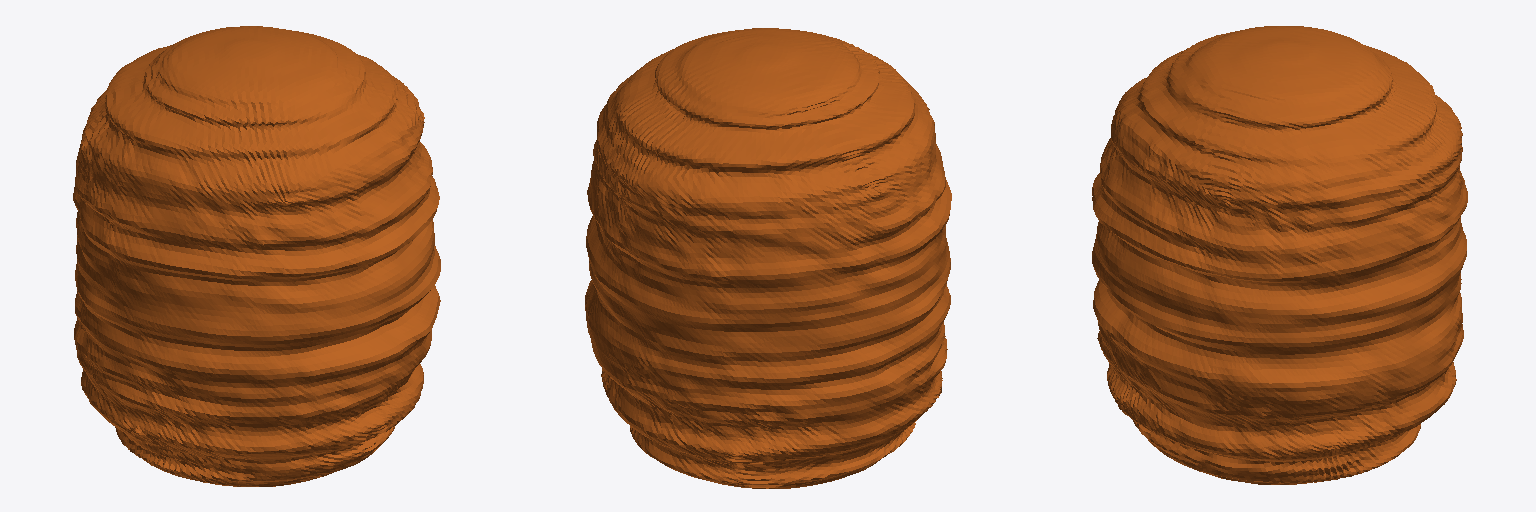
The model's file is Sandstone2.obj.
3 renders of one model, left to right at view 1: azimuth 30°, elevation 25°; view 2: azimuth 150°, elevation 25°; view 3: azimuth 270°, elevation 25°, orthographic.
Visible parts, largest first — view 1: rock.001; view 2: rock.001; view 3: rock.001.
Part boxes in pixels (x1,y1,x2,y2): rock.001: (73,26,440,486); rock.001: (585,28,951,488); rock.001: (1092,26,1467,484).
Bounding box in the file's own units: 0.6934 × 0.8303 × 0.6933.